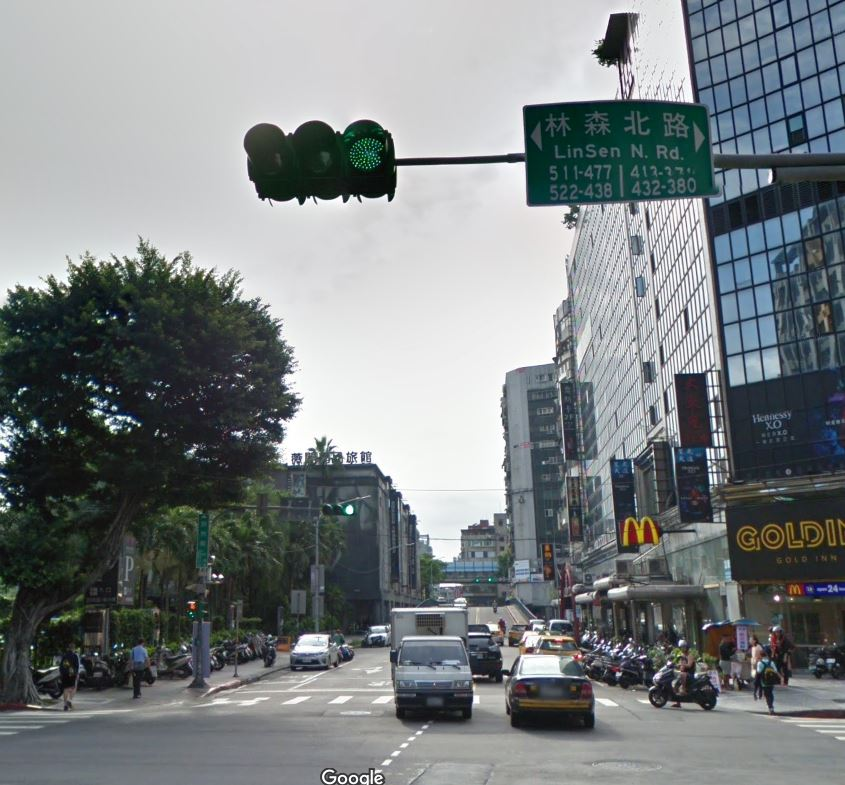Traffic_light_green: (241, 122, 402, 205), (321, 501, 357, 516)
car: (501, 645, 602, 733)
motorcycle: (648, 659, 722, 710)
